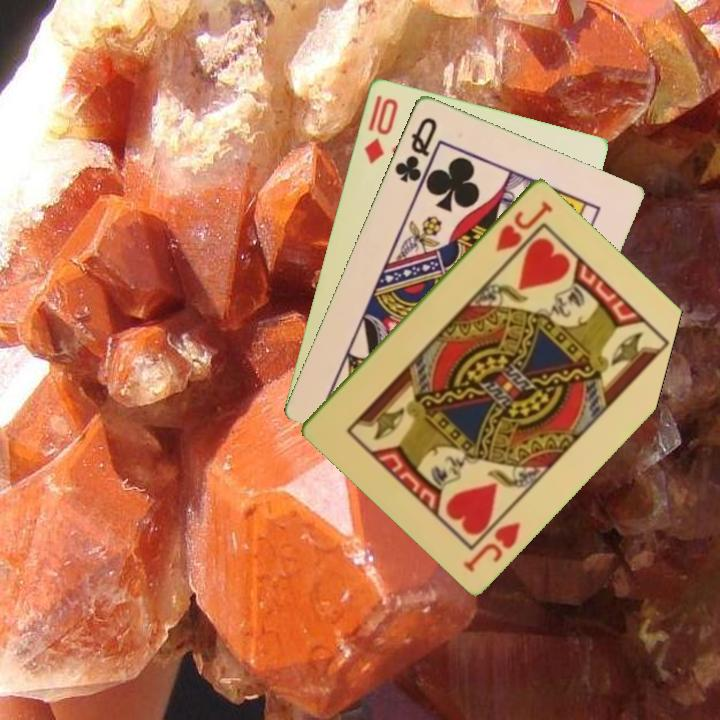10d: (360, 94, 401, 166)
Jh: (492, 197, 556, 254), (459, 517, 523, 574)
Qc: (390, 113, 440, 185)
